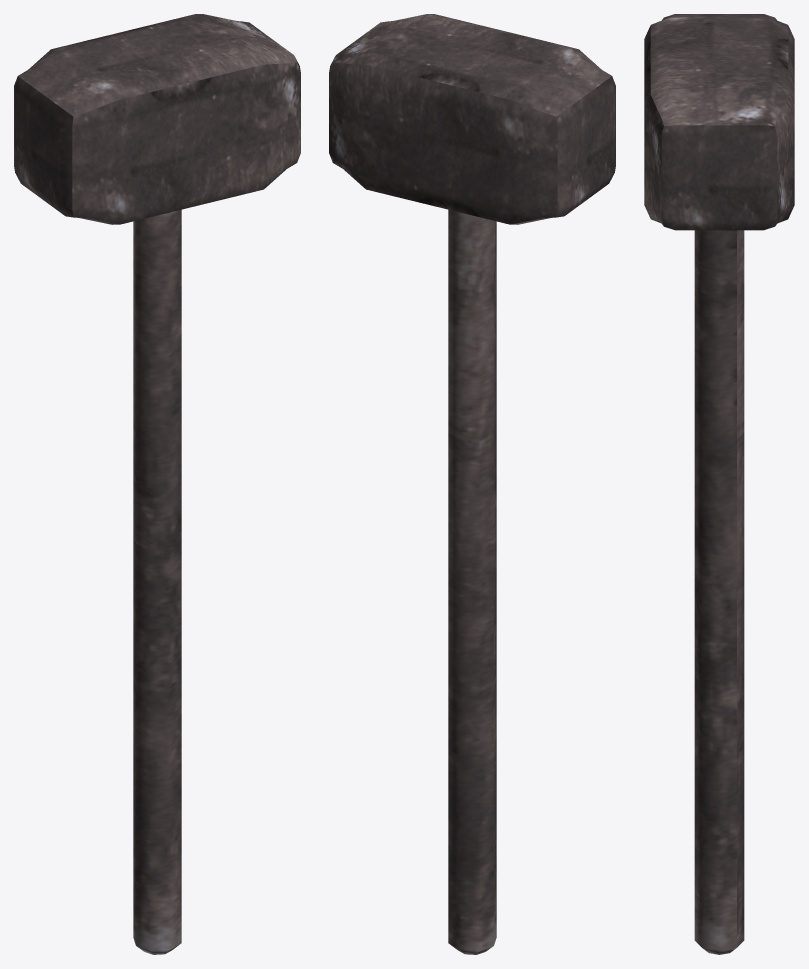
Rendered from hammer.fbx.
3 renders of one model, left to right at view 1: azimuth 30°, elevation 25°; view 2: azimuth 150°, elevation 25°; view 3: azimuth 270°, elevation 25°, orthographic.
Visible parts, largest first — view 1: hammer; view 2: hammer; view 3: hammer.
Boxes of the visible parts, x1,y1,x2,y2 form: hammer: (14, 14, 300, 954); hammer: (329, 14, 615, 954); hammer: (644, 14, 794, 954).
Bounding box in the file's own units: 8.55 × 30.55 × 4.66.
1 material, 1 textured.
